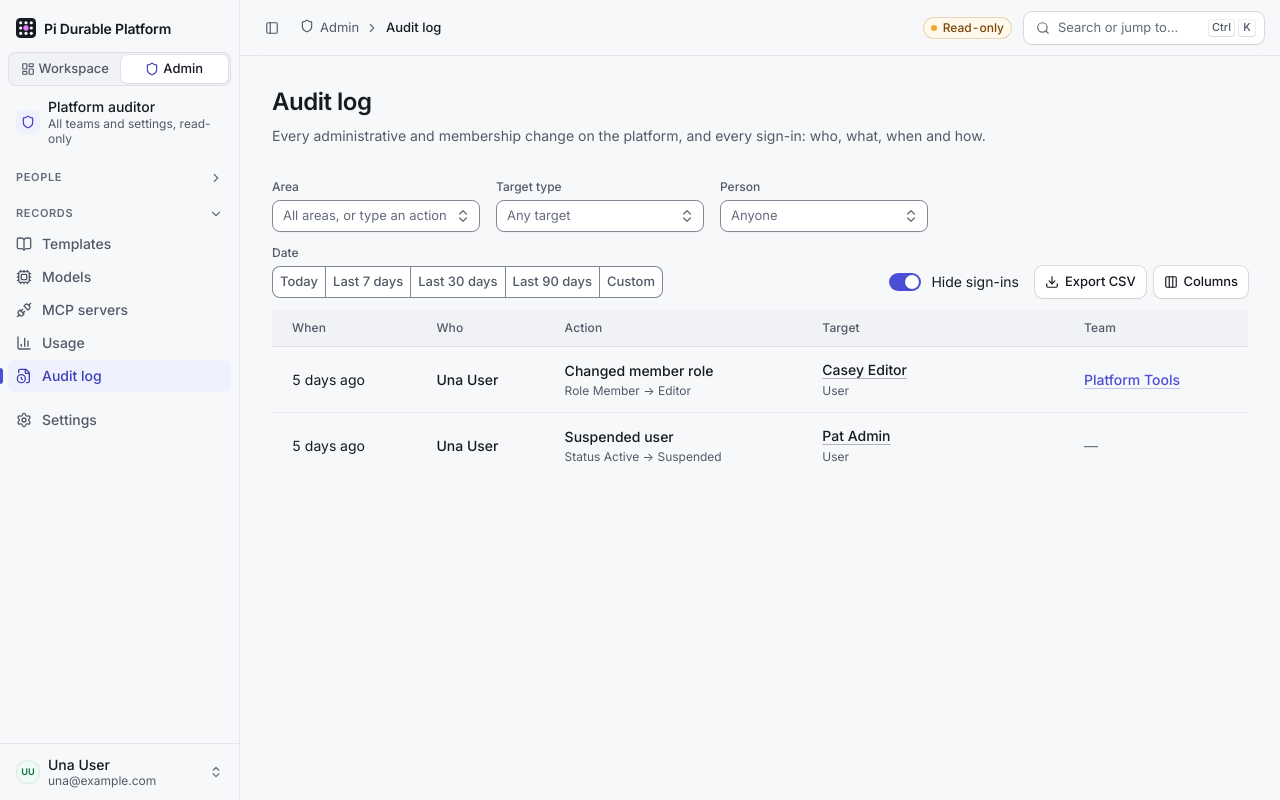
Test: Admin → Audit log › hides sign-ins by default, shows changes in one line and the team, and opens an entry
Expected: the text "Changed member role" shows "Role Member → Editor", [565,360,713,399]
Click the switch named "Hide sign-ins": point(905, 282) [889,273,921,291]
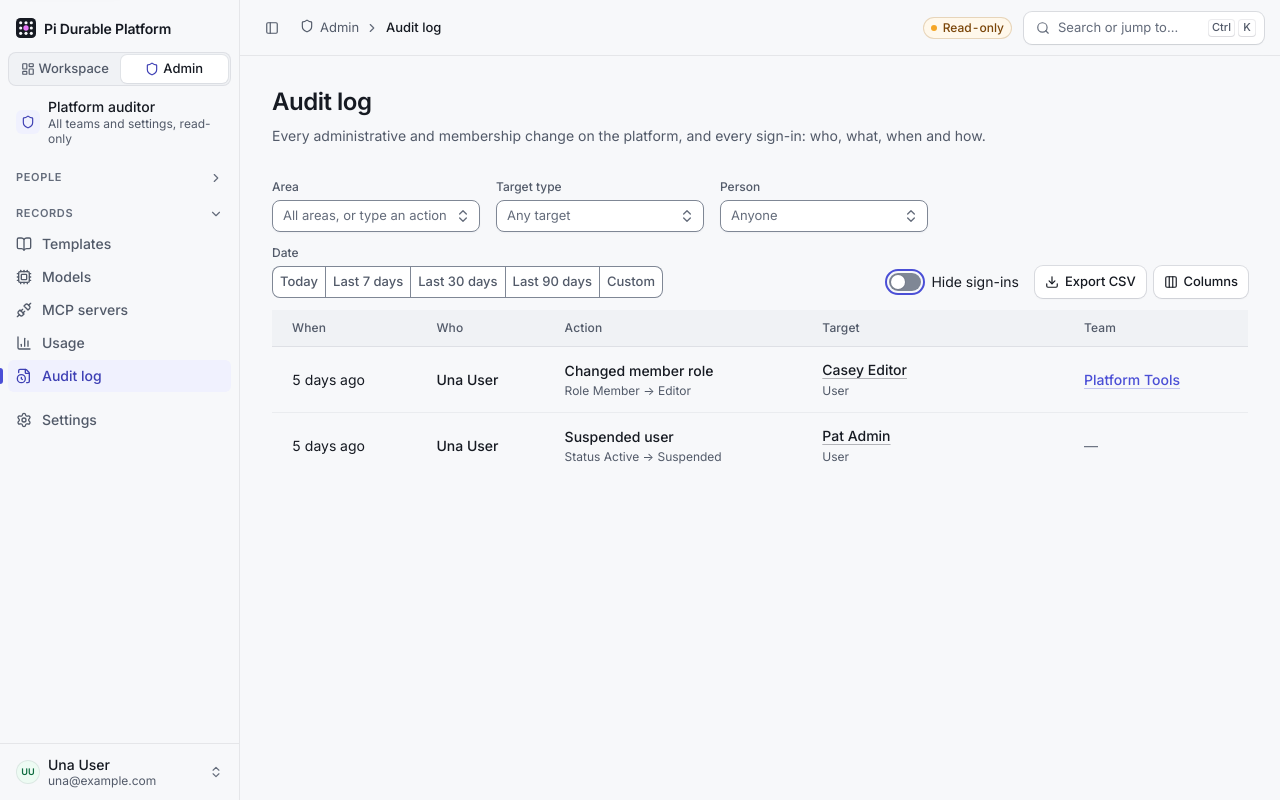
# The list reloads without the filter: open the entry from the new rows.
Click the text "Suspended user": point(619, 436) [565,428,674,445]
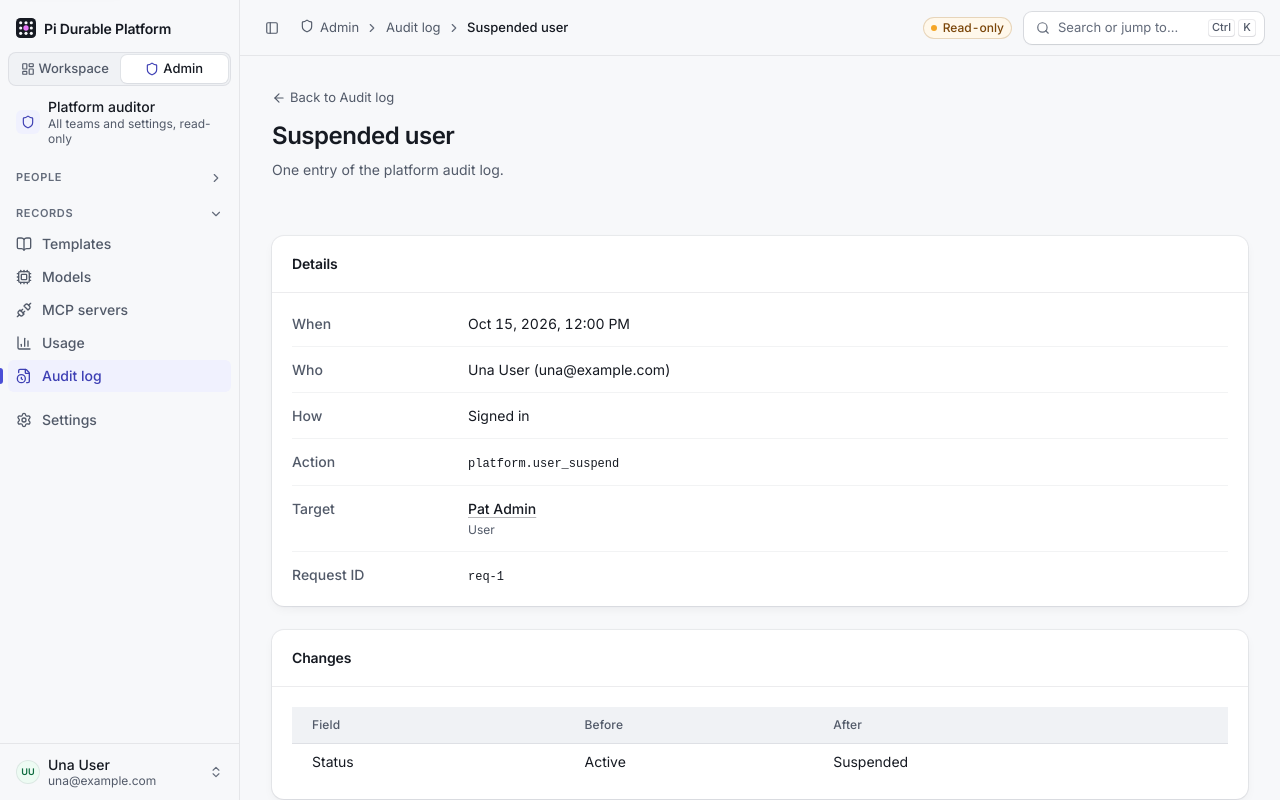
Expected: the heading "Suspended user" is shown, [272,122,454,151]
